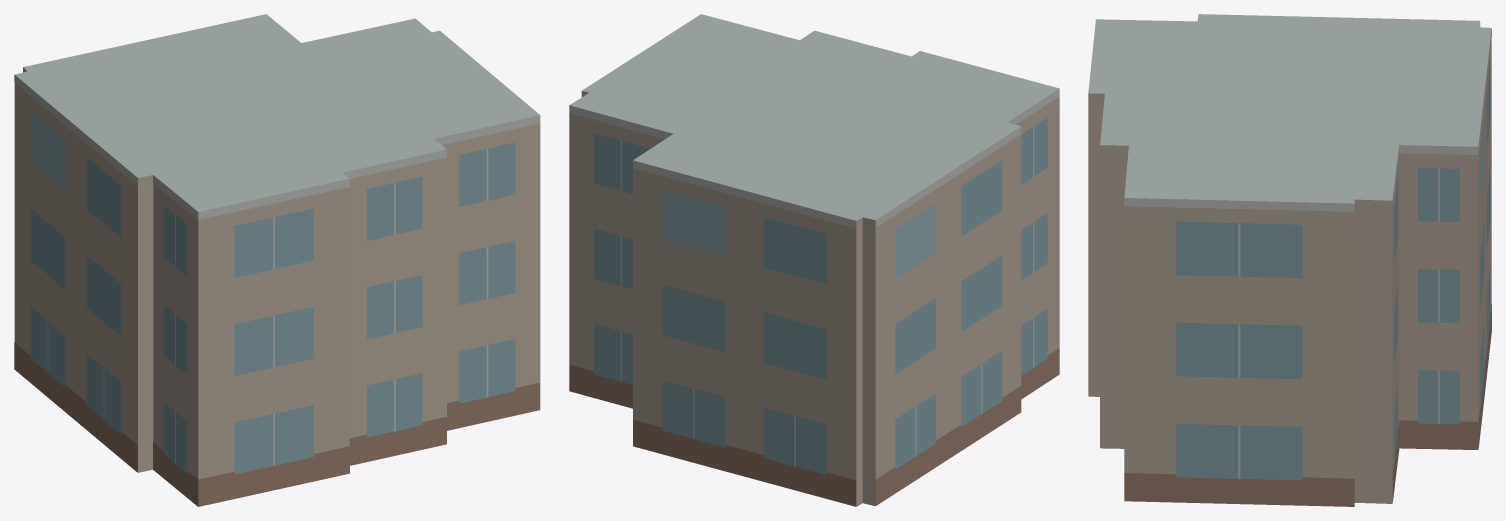
File: survey-upis-32503821.glb
3 renders of one model, left to right at view 1: azimuth 30°, elevation 25°; view 2: azimuth 150°, elevation 25°; view 3: azimuth 270°, elevation 25°, orthographic. The views are drawn at different scales.
Visible parts, largest first — view 1: survey-upis-32503821.tmp; view 2: survey-upis-32503821.tmp; view 3: survey-upis-32503821.tmp.
Part boxes in pixels (x1,y1,x2,y2): survey-upis-32503821.tmp: [14, 14, 540, 506]; survey-upis-32503821.tmp: [569, 14, 1059, 506]; survey-upis-32503821.tmp: [1088, 14, 1491, 506].
Size of the model in its own units: 11.94 by 8.9 by 10.74.
